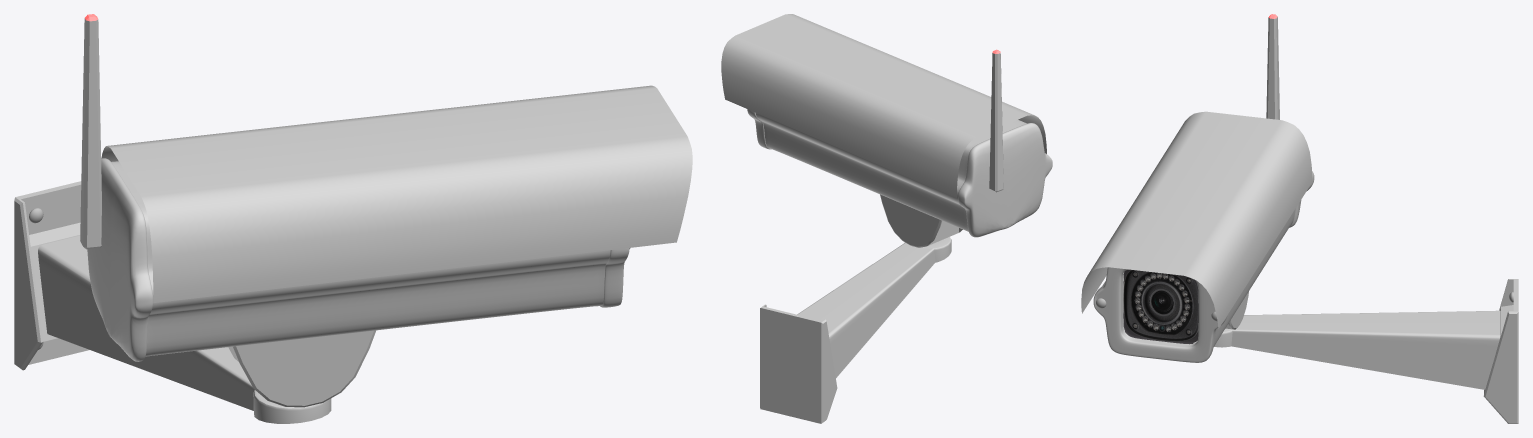
Rendered from Team3_Sanchez_SecurityCamera.fbx.
3 renders of one model, left to right at view 1: azimuth 30°, elevation 25°; view 2: azimuth 150°, elevation 25°; view 3: azimuth 270°, elevation 25°, orthographic. The views are drawn at different scales.
Parts seen in each view (by area): view 1: SecurityCamera, SecurityCameraBase; view 2: SecurityCamera, SecurityCameraBase; view 3: SecurityCamera, SecurityCameraBase.
Part boxes in pixels (<box>): SecurityCamera: <box>80,14,692,407</box>; SecurityCameraBase: <box>14,181,331,423</box>; SecurityCamera: <box>721,14,1052,247</box>; SecurityCameraBase: <box>760,237,951,423</box>; SecurityCamera: <box>1081,14,1314,362</box>; SecurityCameraBase: <box>1214,279,1518,423</box>.
Size of the model in its own units: 10.17 by 9.37 by 10.89.
Materials: 5 (1 with a texture image).
